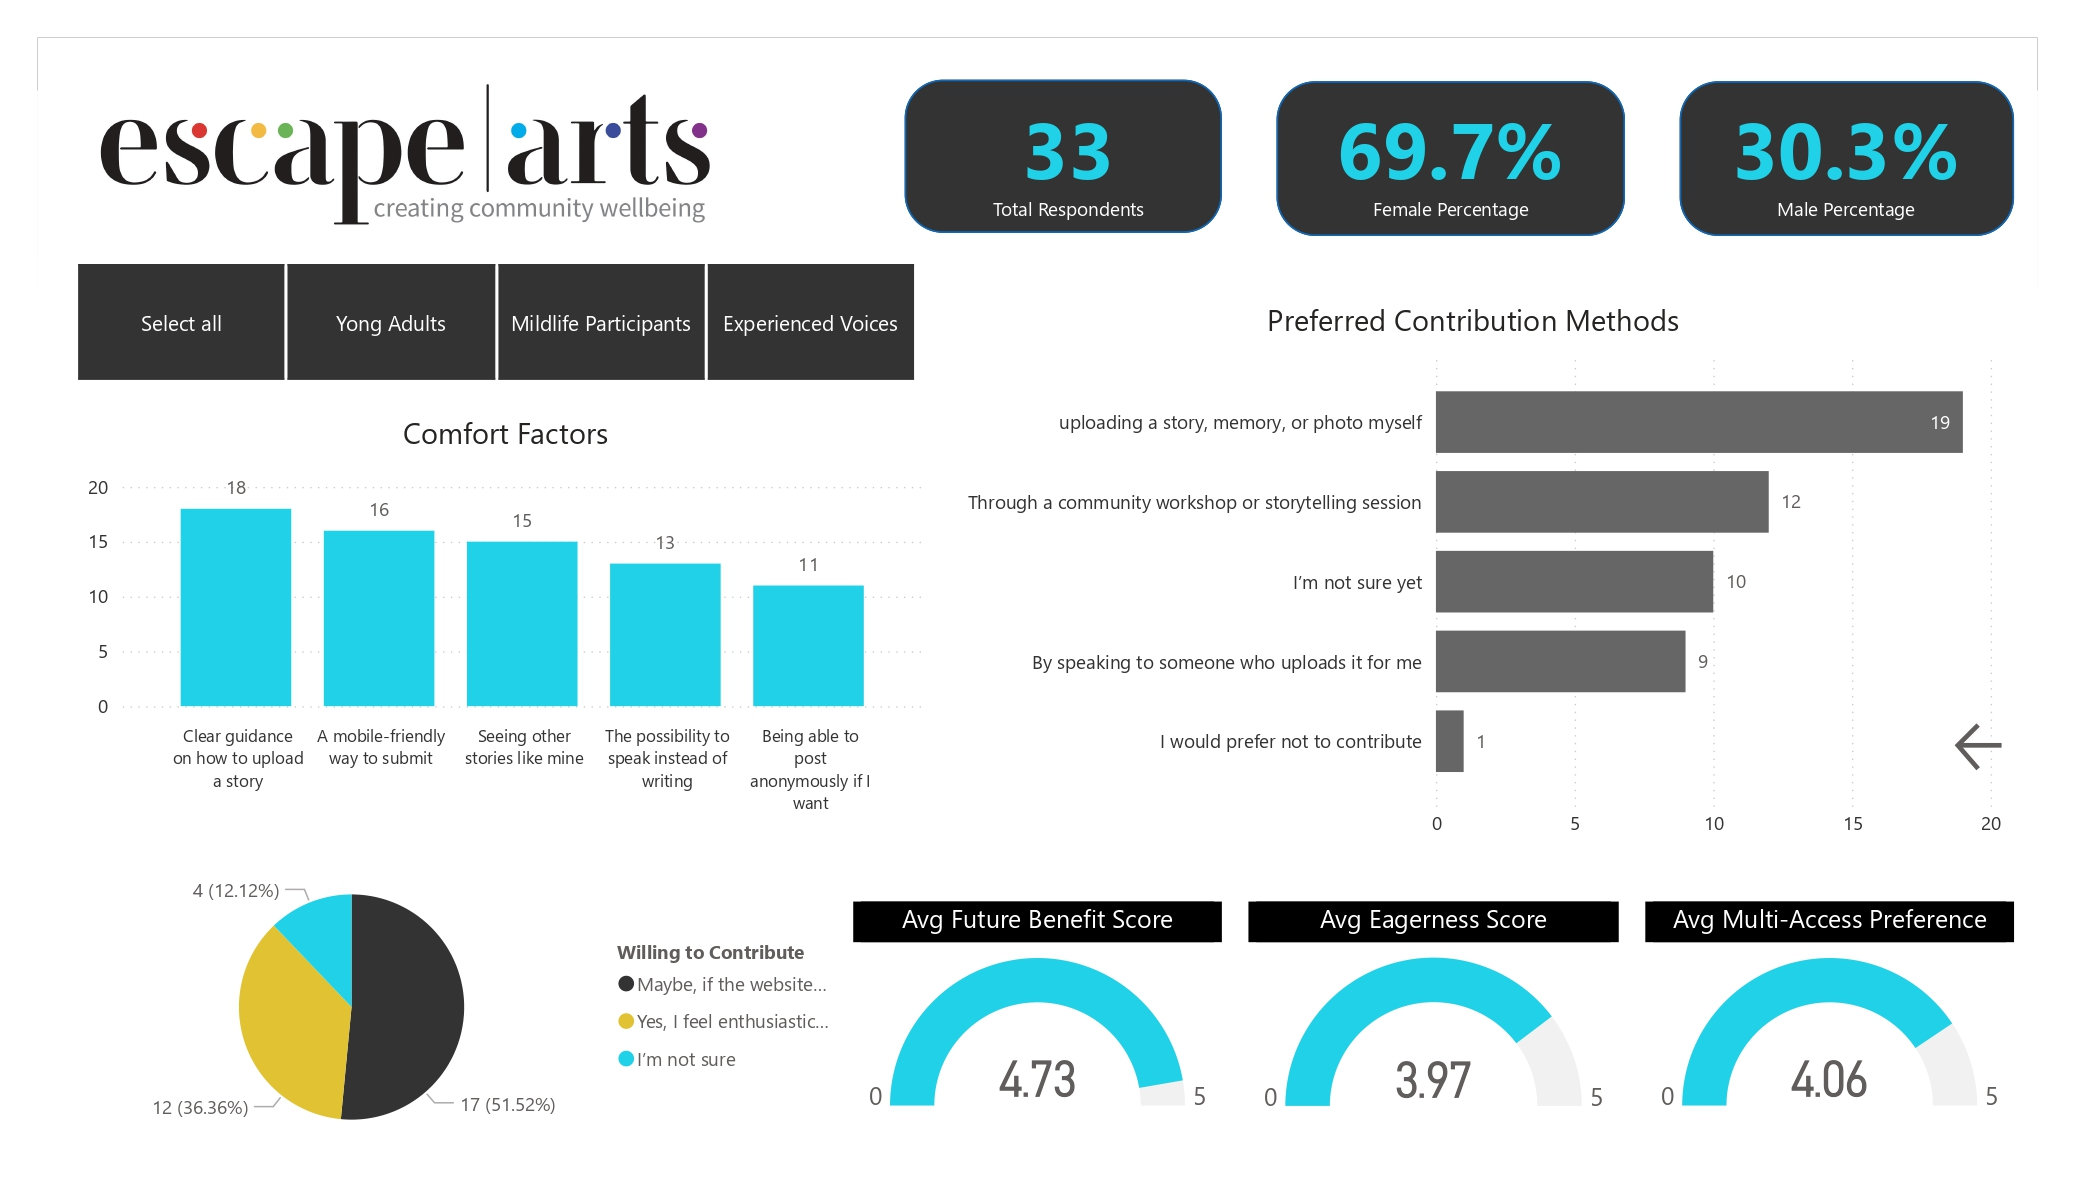

This screenshot's page, from the dashboard's own definition file:
{"tool":"powerbi","page":{"name":"User Engagement","canvas":[1280,720],"ordinal":1},"visuals":[{"type":"shape","box":[554.8,27,203.4,98.2],"z":0},{"type":"card","fields":{"Values":["People's Archive- community survey (Responses).Total respondents"]},"box":[573.3,25.6,173.6,102.4],"z":1000},{"type":"textbox","box":[122.3,28.5,354.2,52.6],"z":2000},{"type":"image","box":[25.6,7.1,422.5,140.8],"z":3000},{"type":"shape","box":[793.1,28.5,223.4,98.2],"z":4000},{"type":"card","fields":{"Values":["Measures Table.Female %"]},"box":[809.5,25.6,190.6,102.4],"z":5000},{"type":"shape","box":[1051.4,28.5,213.4,98.2],"z":6000},{"type":"card","fields":{"Values":["Measures Table.Male %"]},"box":[1065.6,25.6,183.5,102.4],"z":7000},{"type":"slicer","fields":{"Values":["People Archive- community survey (Responses).Age Category"]},"box":[0,138,584.7,88.2],"z":8000},{"type":"gauge","title":"Avg Future Benefit Score ","fields":{"Y":["Measures Table.Avg Benefit Score"],"MaxValue":["Max(People Archive- community survey (Responses).Benefit for Future Generations)"]},"box":[522.1,553.4,236.2,150.8],"z":9000},{"type":"gauge","title":"Avg Eagerness Score ","fields":{"Y":["Measures Table.Avg Eagerness Score"],"MaxValue":["Max(People Archive- community survey (Responses).Eagerness to Contribute)"]},"box":[775.4,553.4,236.2,150.8],"z":10000},{"type":"gauge","title":"Avg Multi-Access Preference","fields":{"Y":["Measures Table.Avg Multi-Access Preference"],"MaxValue":["Max(People Archive- community survey (Responses).Preference for Multiple Access)"]},"box":[1028.6,553.4,236.2,150.8],"z":11000},{"type":"clusteredBarChart","title":"Preferred Contribution Methods","fields":{"Category":["Contribution Methods Answers.Preferred Contribution Methods"],"Y":["Contribution Methods Answers.Total num of contribution"]},"box":[573.3,167.9,691.4,352.8],"z":12000},{"type":"clusteredColumnChart","title":"Comfort Factors","fields":{"Y":["Comfort Factors Answers.Total number of factors"],"Category":["Comfort Factors Answers.Comfort Factors for Contribution"]},"box":[25.6,240.4,547.7,264.6],"z":13000},{"type":"pieChart","fields":{"Category":["People Archive- community survey (Responses).Willing to Contribute"],"Y":["People Archive- community survey (Responses).Total Respondents"]},"box":[25.6,520.7,496.5,199.2],"z":14000},{"type":"actionButton","box":[1223.5,433.9,56.9,39.8],"z":15000}]}

Visuals, with their boxes in screenshot pixels (x1, y1, x2, y2):
shape: x1=904 y1=80 x2=1222 y2=233
card - People's Archive- community survey (Responses).Total respondents: x1=933 y1=78 x2=1205 y2=238
textbox: x1=229 y1=82 x2=782 y2=164
image: x1=78 y1=49 x2=738 y2=269
shape: x1=1277 y1=82 x2=1626 y2=235
card - Measures Table.Female %: x1=1302 y1=78 x2=1600 y2=238
shape: x1=1680 y1=82 x2=2014 y2=235
card - Measures Table.Male %: x1=1702 y1=78 x2=1989 y2=238
slicer - People Archive- community survey (Responses).Age Category: x1=38 y1=253 x2=951 y2=391
"Avg Future Benefit Score " gauge: x1=853 y1=902 x2=1222 y2=1138
"Avg Eagerness Score " gauge: x1=1249 y1=902 x2=1618 y2=1138
"Avg Multi-Access Preference" gauge: x1=1645 y1=902 x2=2014 y2=1138
"Preferred Contribution Methods" clusteredBarChart: x1=933 y1=300 x2=2014 y2=851
"Comfort Factors" clusteredColumnChart: x1=78 y1=413 x2=933 y2=827
pieChart - People Archive- community survey (Responses).Willing to Contribute x People Archive- community survey (Responses).Total Respondents: x1=78 y1=851 x2=853 y2=1162
actionButton: x1=1949 y1=715 x2=2038 y2=778
